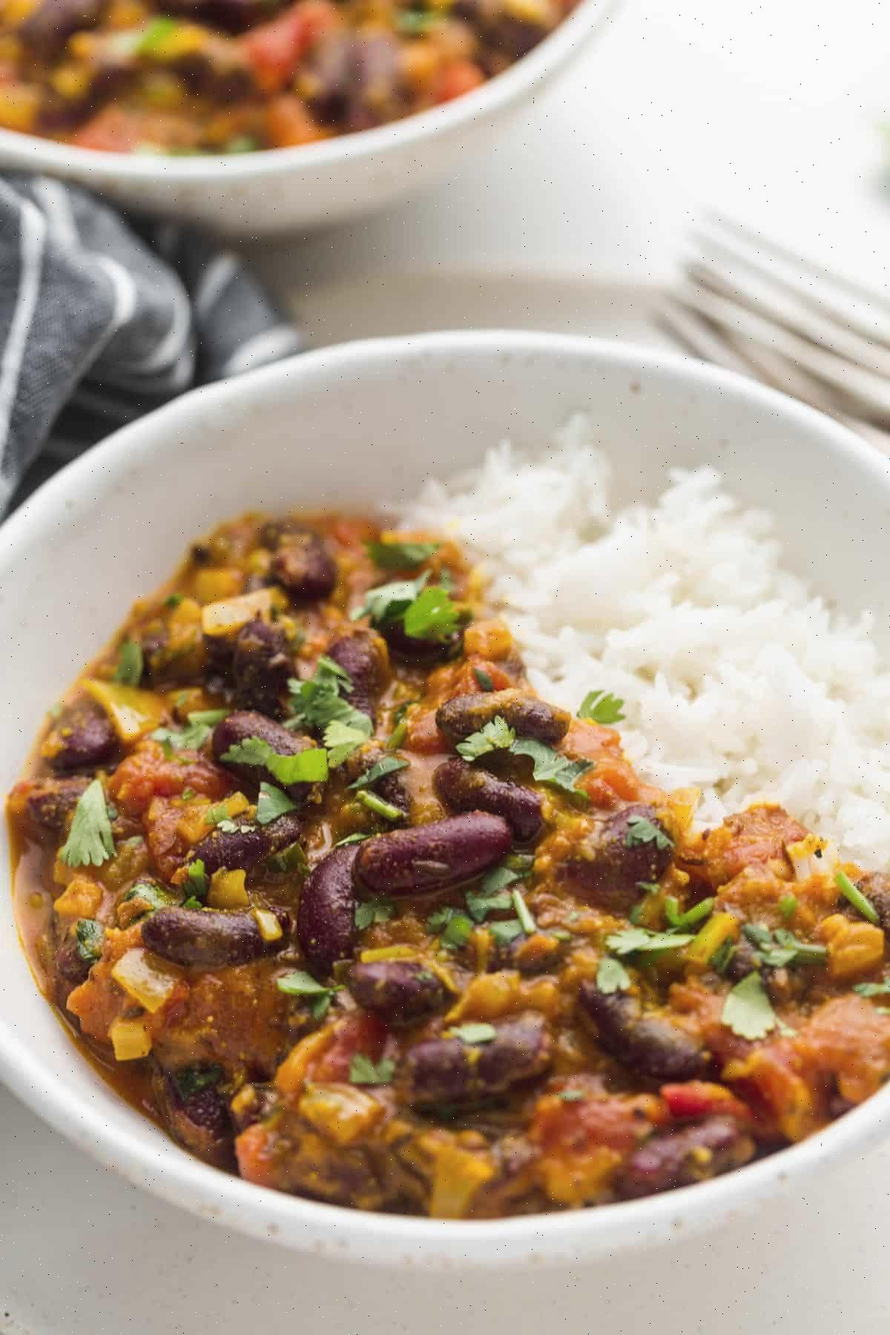rajma: (37, 645, 567, 1205)
